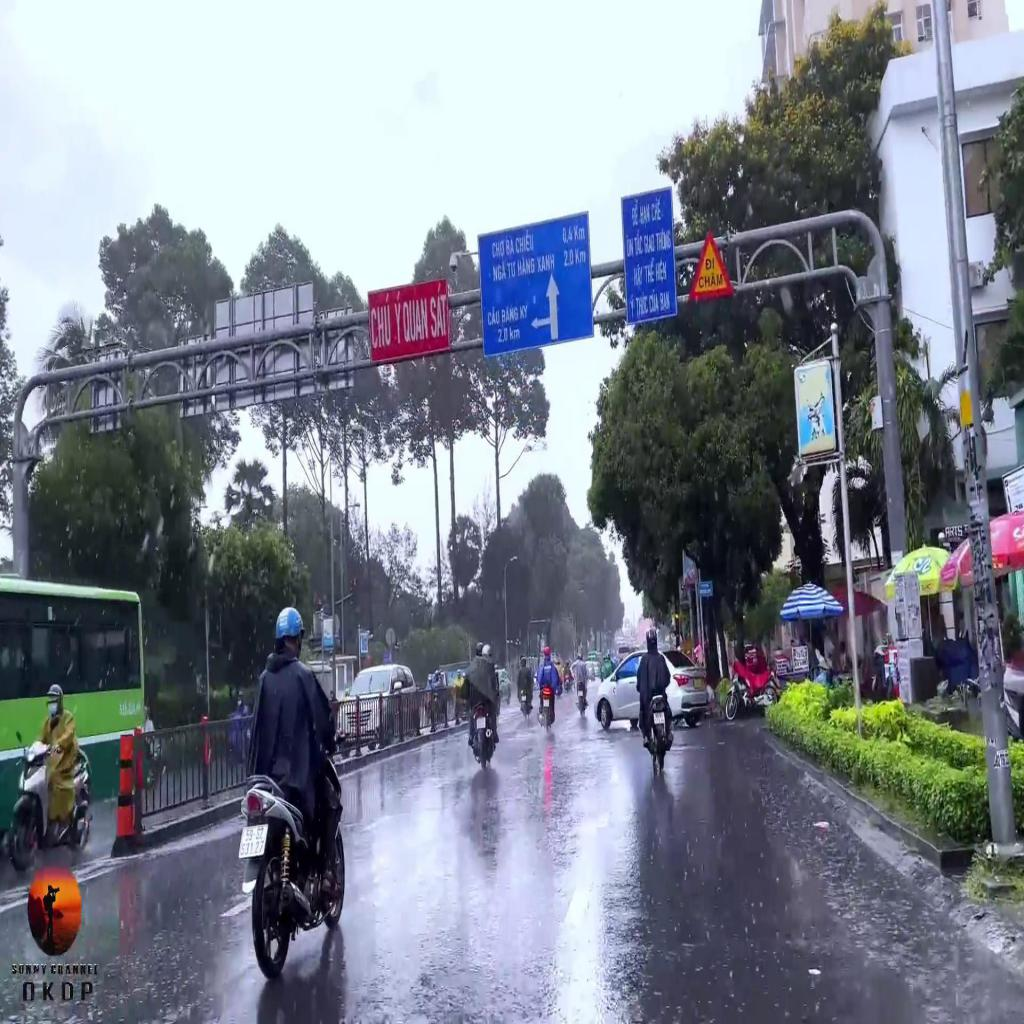di_cham: (688, 228, 734, 300)
khac: (477, 212, 594, 358)
